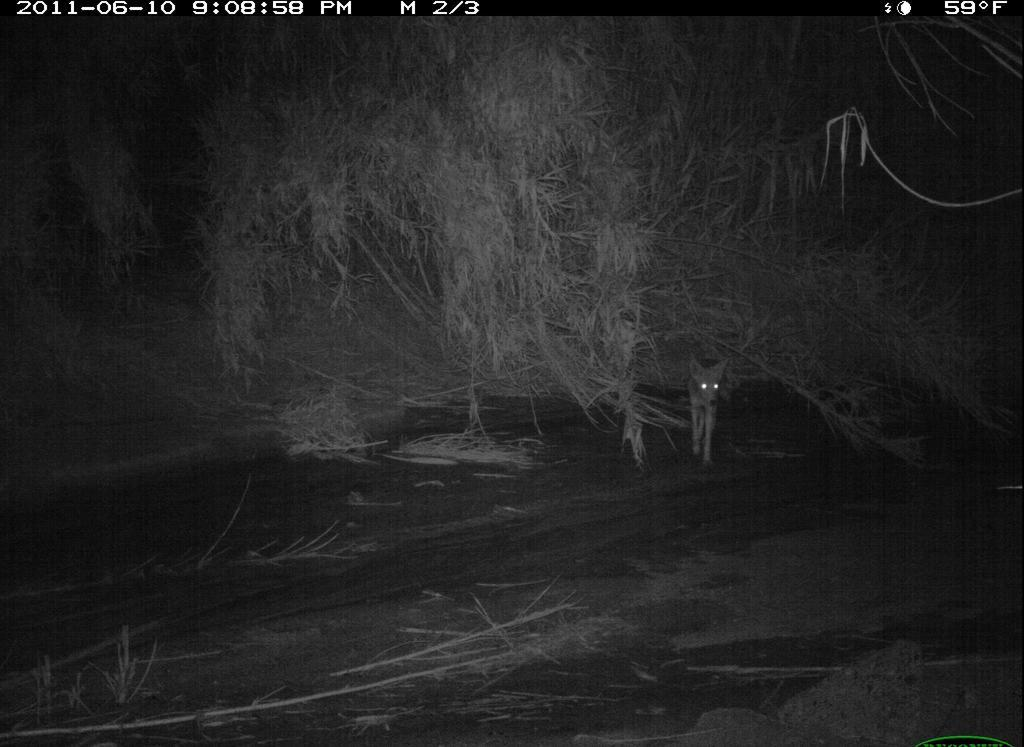coyote: (678, 349, 738, 470)
